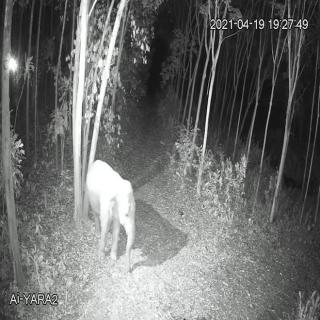Elephant: (83, 156, 141, 269)
